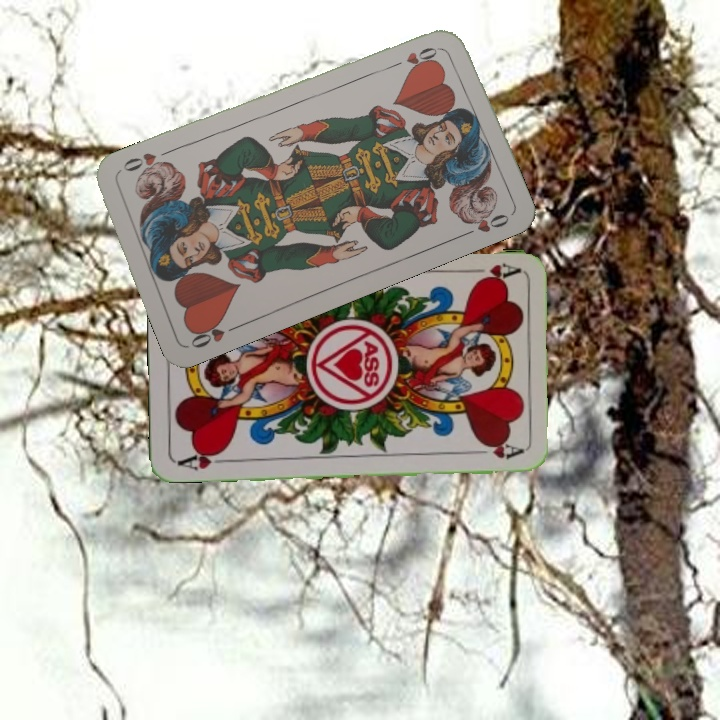HA: (174, 446, 233, 473), (461, 258, 520, 284)
HO: (186, 316, 243, 351), (386, 42, 443, 71)
